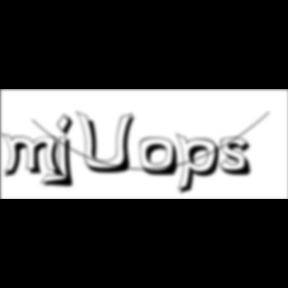U: (76, 110, 142, 176)
j: (54, 113, 82, 191)
m: (0, 132, 68, 181)
o: (139, 137, 181, 179)
p: (177, 132, 227, 198)
s: (220, 137, 258, 179)
